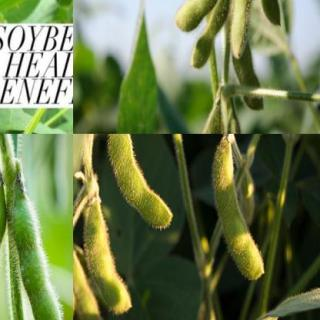soya: (210, 140, 264, 280), (12, 182, 66, 319), (108, 134, 174, 231), (84, 203, 131, 316), (190, 2, 229, 70), (73, 252, 111, 319), (174, 0, 233, 33), (232, 59, 265, 112), (229, 0, 257, 61), (254, 0, 282, 28), (198, 105, 222, 133), (227, 115, 241, 133)
